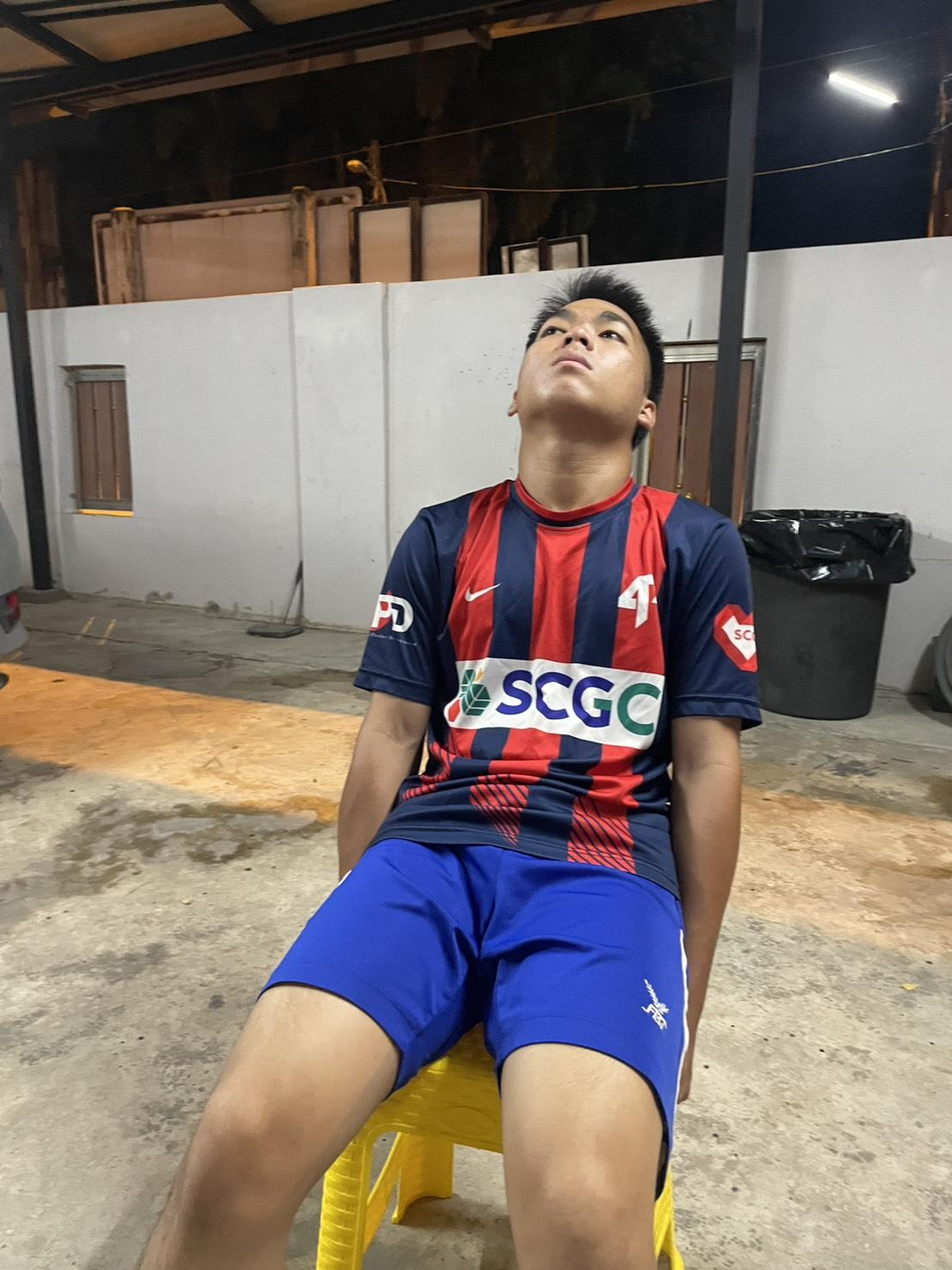BadPosture: (248, 272, 759, 1100)
